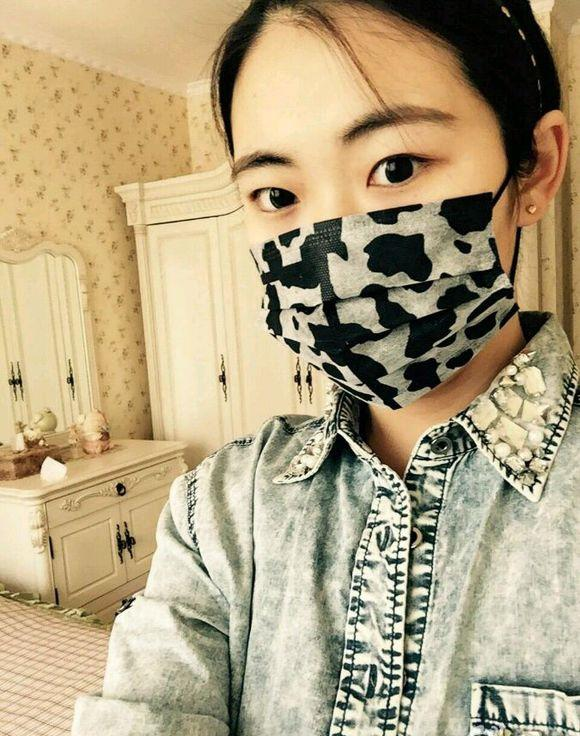OK: (235, 108, 527, 400)
